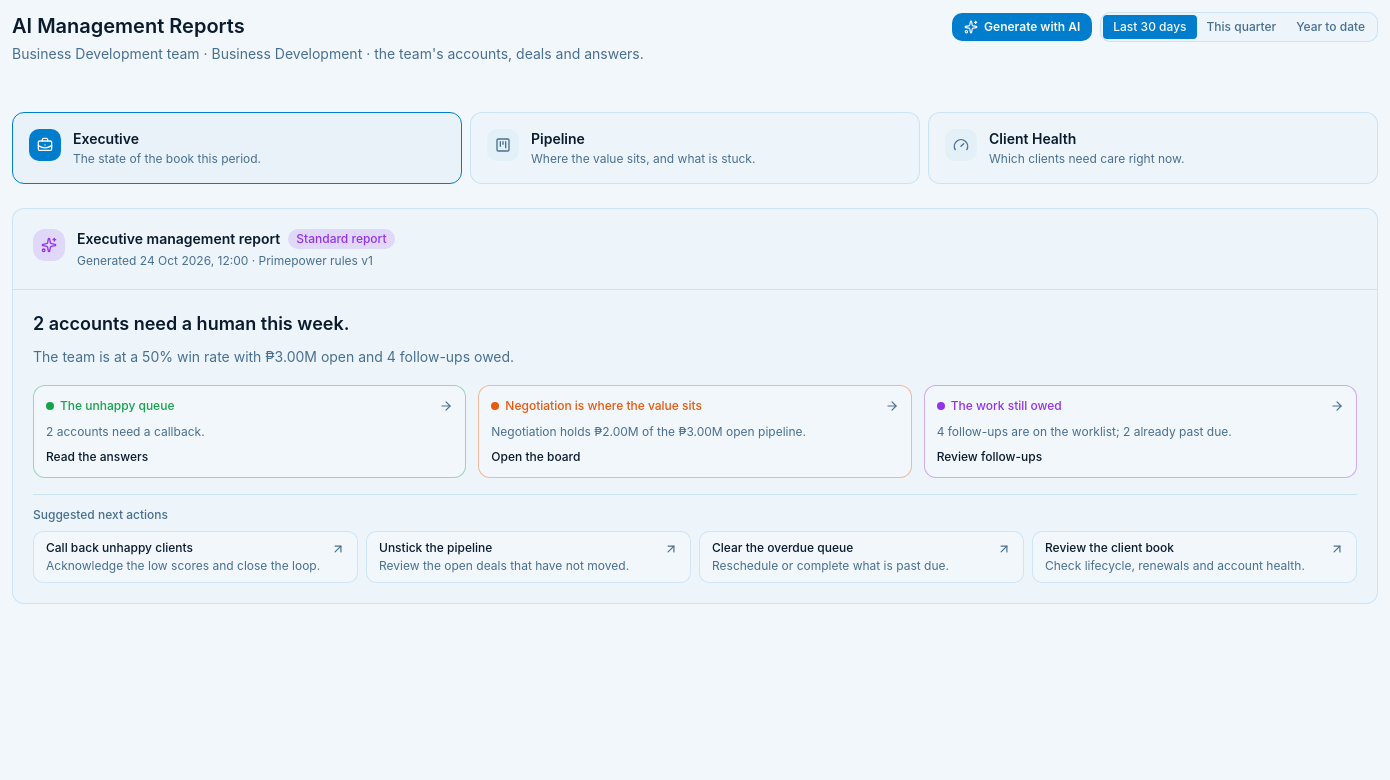
Test: management reports page › generates an AI report on demand and shows its provenance
The width and height of the screenshot is (1390, 780).
Click the button "Generate with AI" at [1022, 27], box [952,13,1092,41]
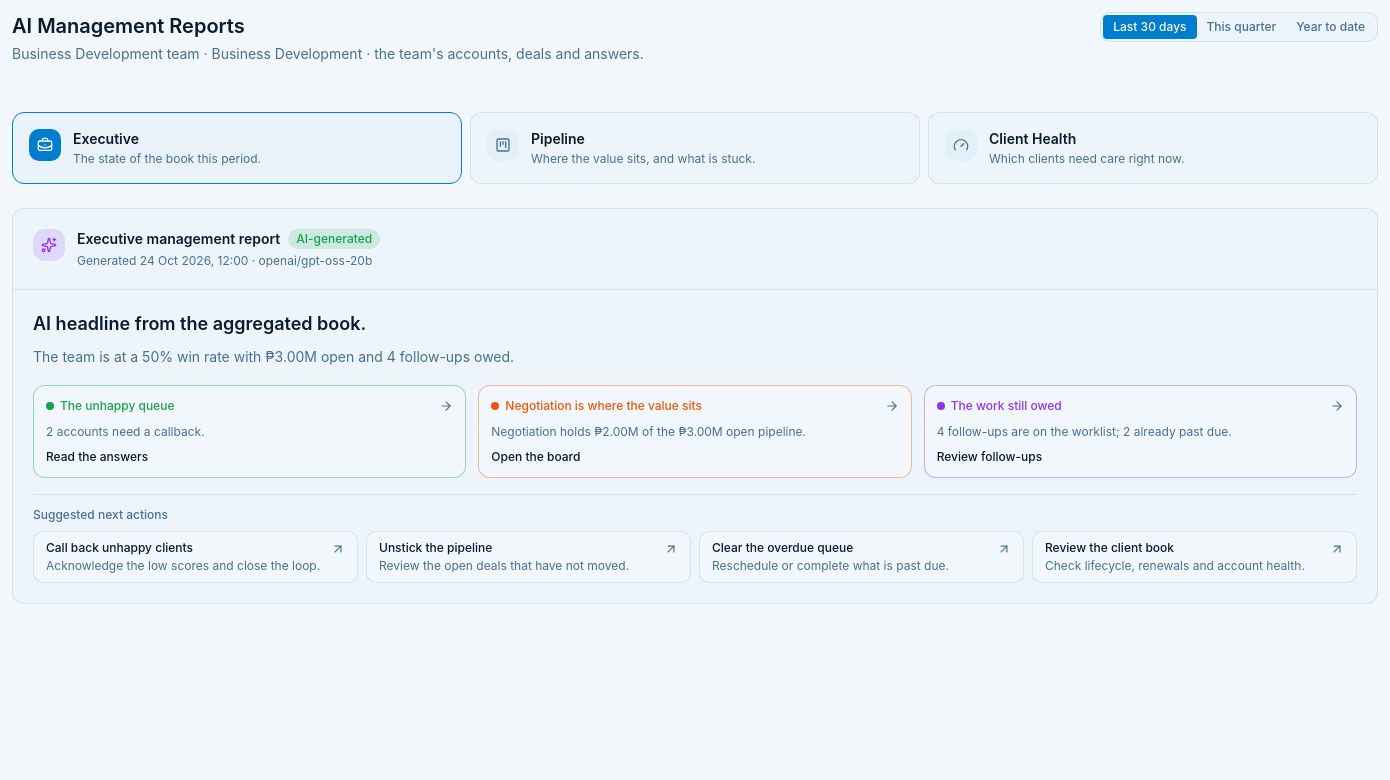
Expected: the text "AI headline from the aggregated book." is shown, [33,313,366,334]
Expected: the text "AI-generated" is shown, [288,229,380,249]
Expected: the text "Generated 24 Oct 2026, 12:00 · openai/gpt-oss-20b" is shown, [77,253,380,269]
